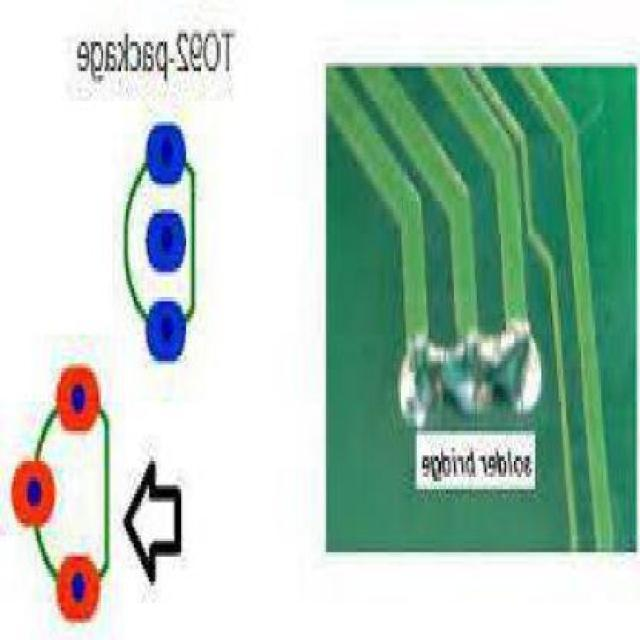Soldering shorted: (395, 309, 540, 431)
